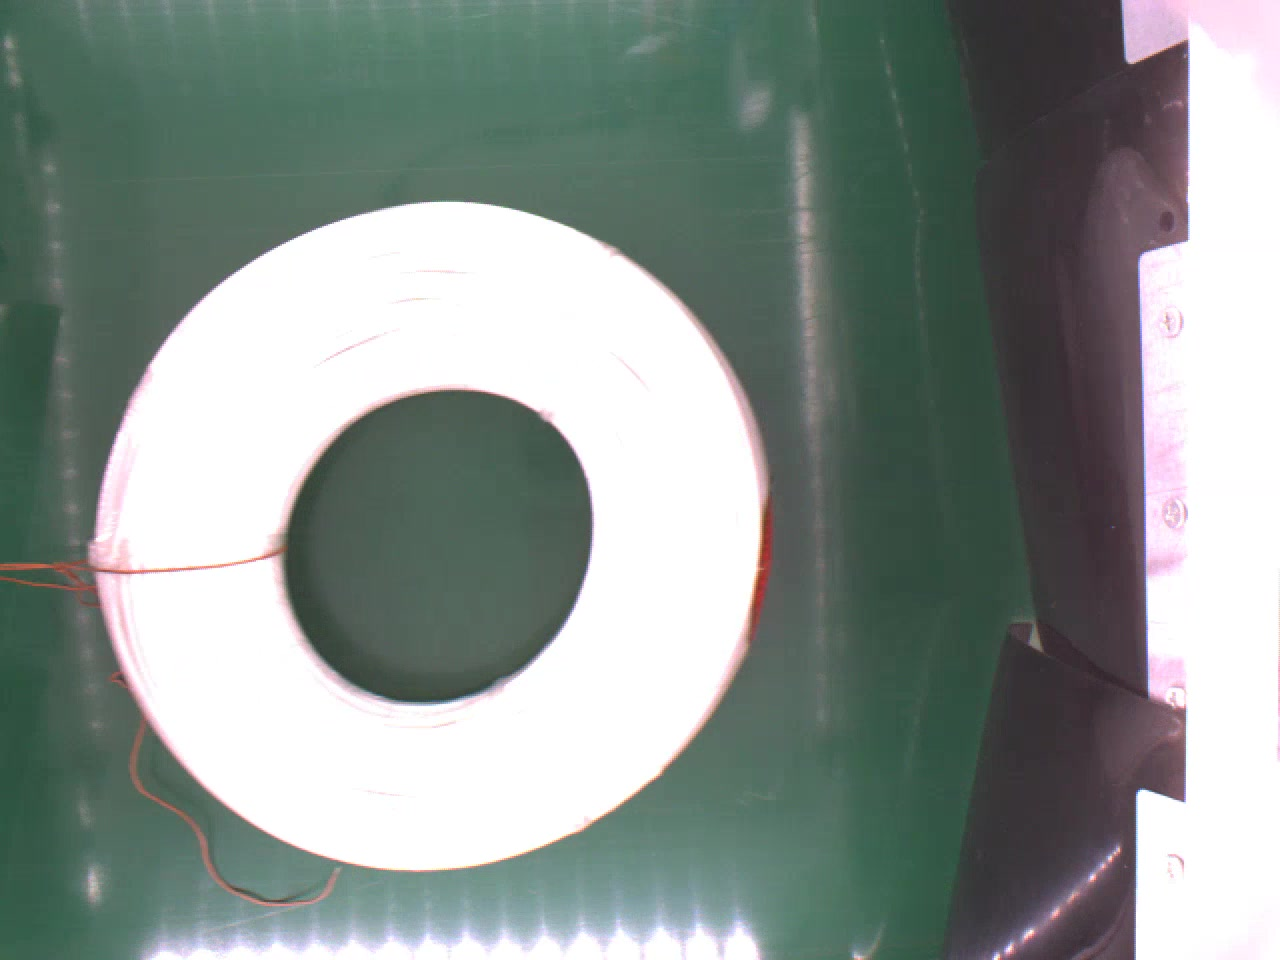white: (88, 199, 766, 870)
